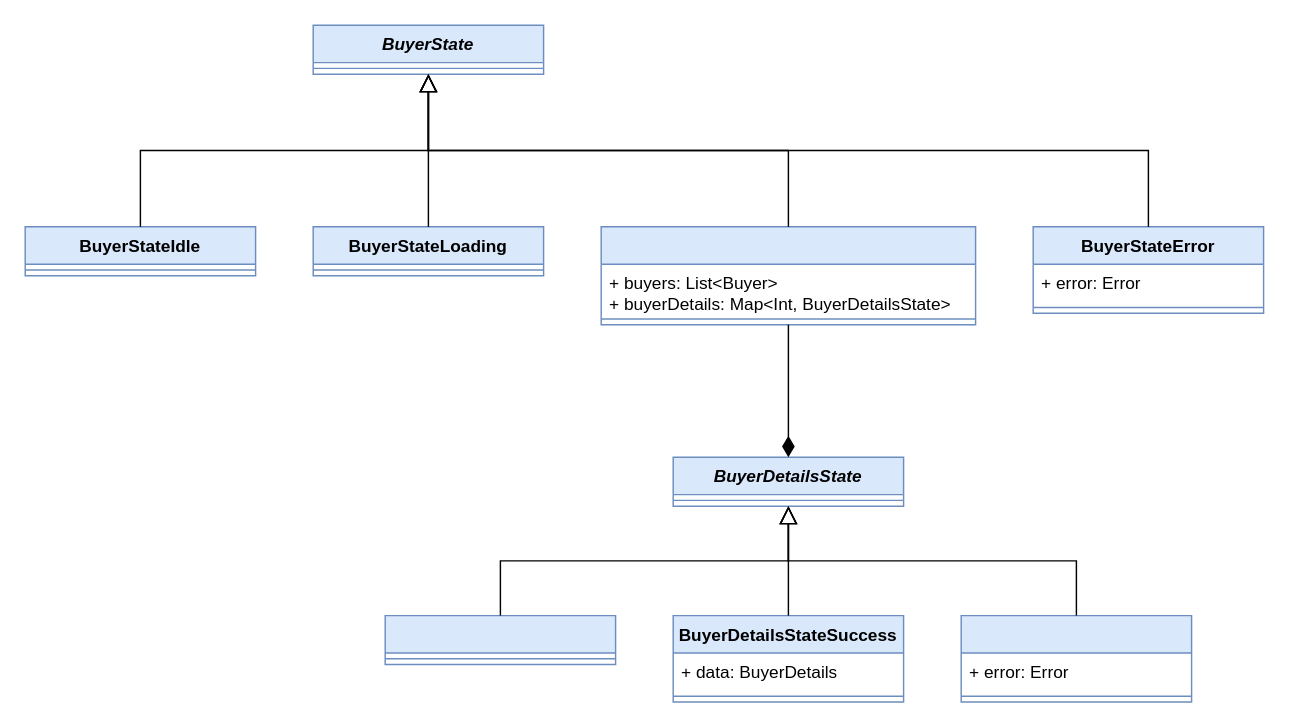
Some shapes in this 1289 by 727 pixel diagram are drawn without their labels. The shapes that lost their labels are listed below. From the top down, each one's box as (x1, y1, x2, y2) in pixels, then its label:
(600, 225, 976, 325): BuyerStateSuccess
(384, 614, 616, 665): BuyerDetailsStateLoading
(960, 614, 1192, 702): BuyerDetailsError
